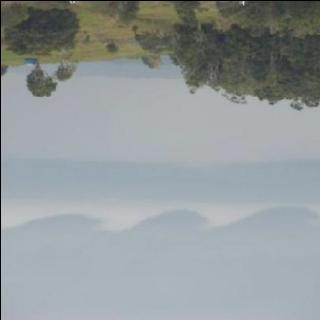Nimbostratus: (0, 151, 320, 320)
